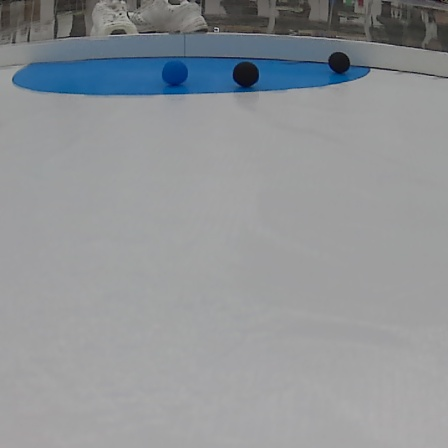black: (234, 59, 261, 88), (328, 46, 352, 74)
blue: (161, 61, 190, 85)
blue_base: (13, 53, 380, 97)
